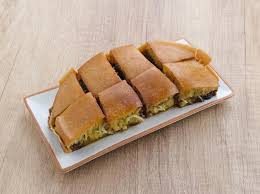Martabak manis: (54, 90, 106, 154), (37, 67, 91, 121), (162, 61, 220, 108), (99, 80, 145, 134), (131, 68, 178, 118), (74, 50, 127, 94), (142, 39, 212, 69), (104, 43, 153, 79)
